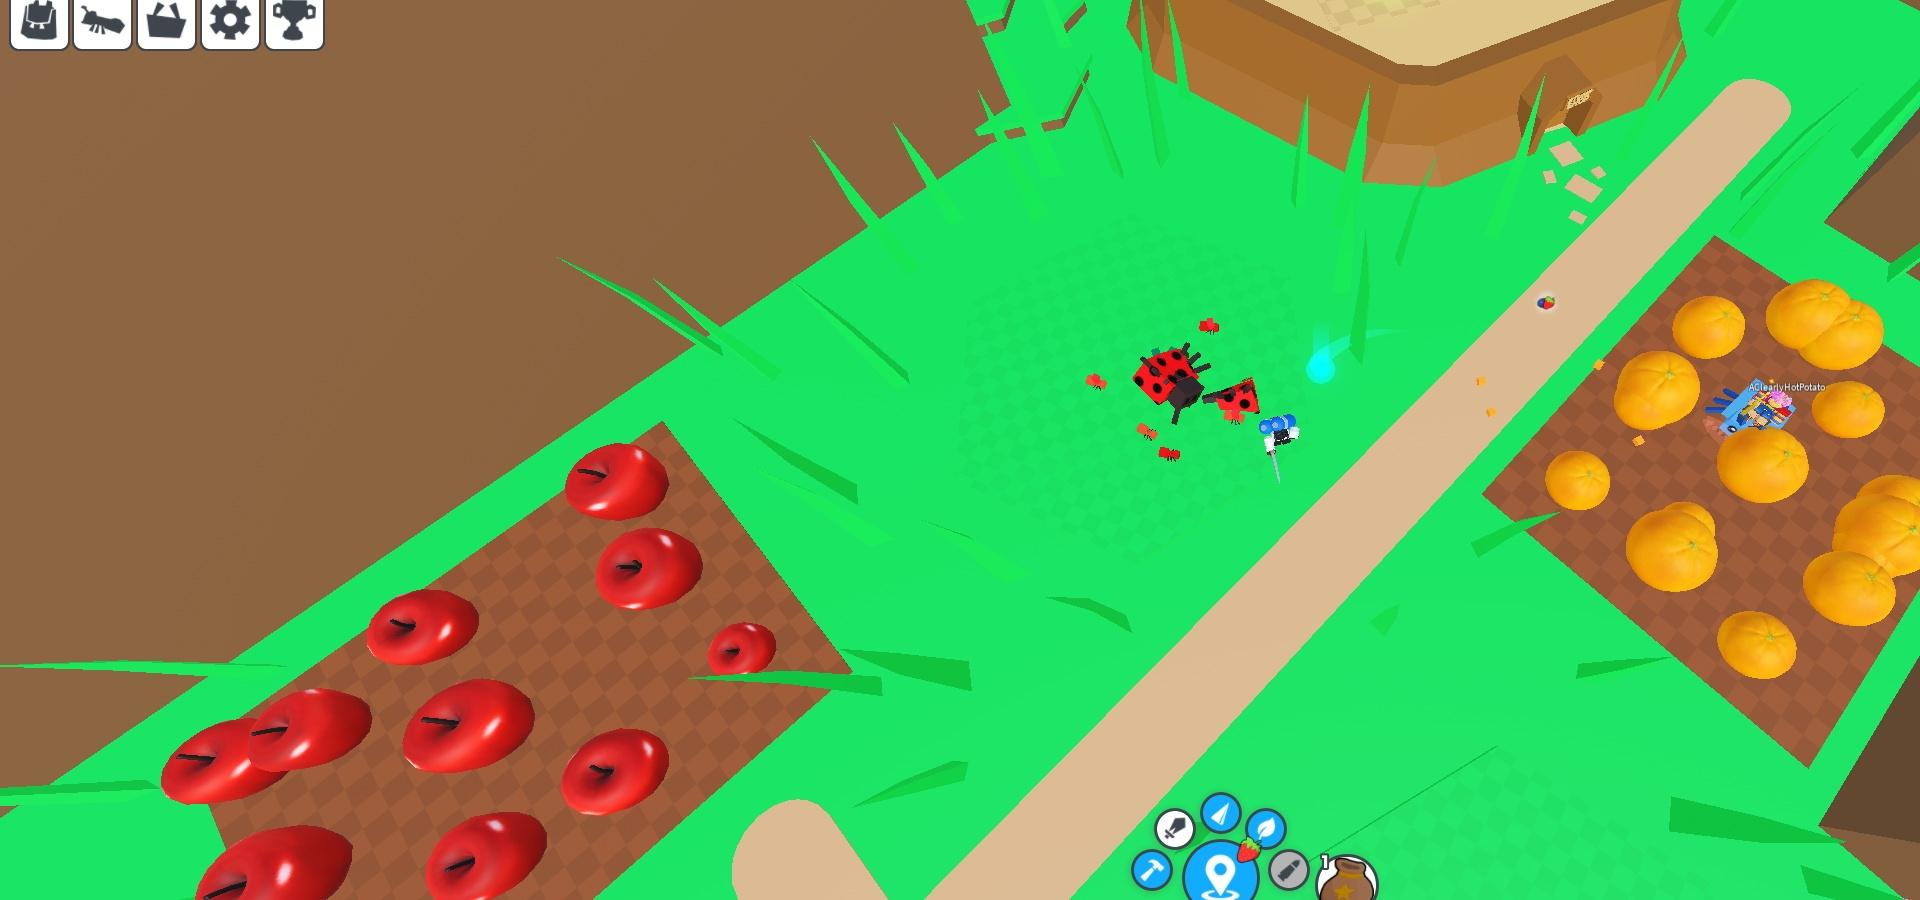Enemy: (1134, 343, 1210, 426), (1205, 377, 1264, 431)
